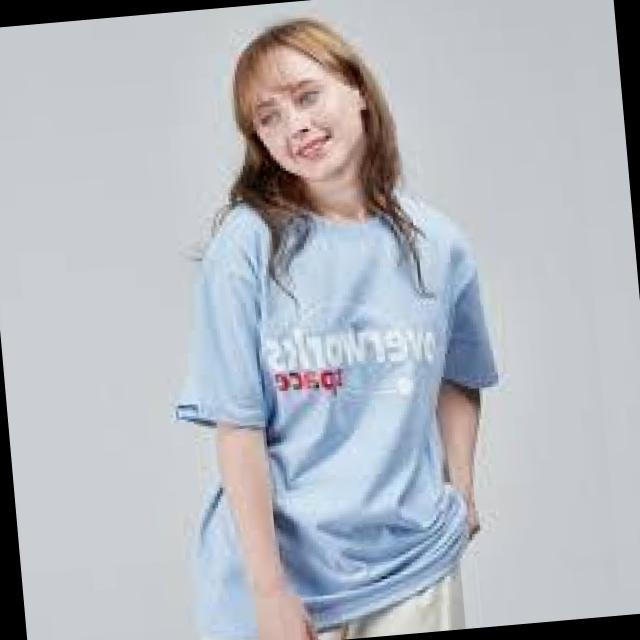Tshirt: (74, 164, 595, 640)
